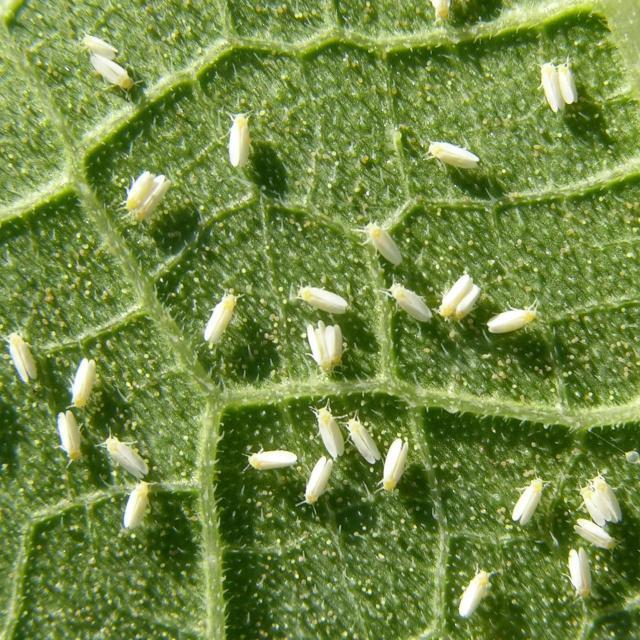Whitefly: (98, 34, 616, 522), (2, 290, 184, 556), (510, 454, 640, 608), (70, 19, 154, 121), (451, 556, 499, 628)
